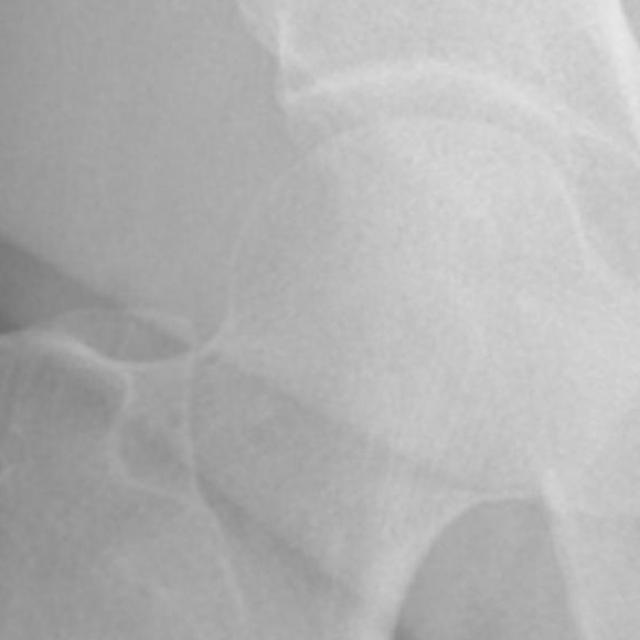Fitted_femural_head: (415, 117, 432, 415)
